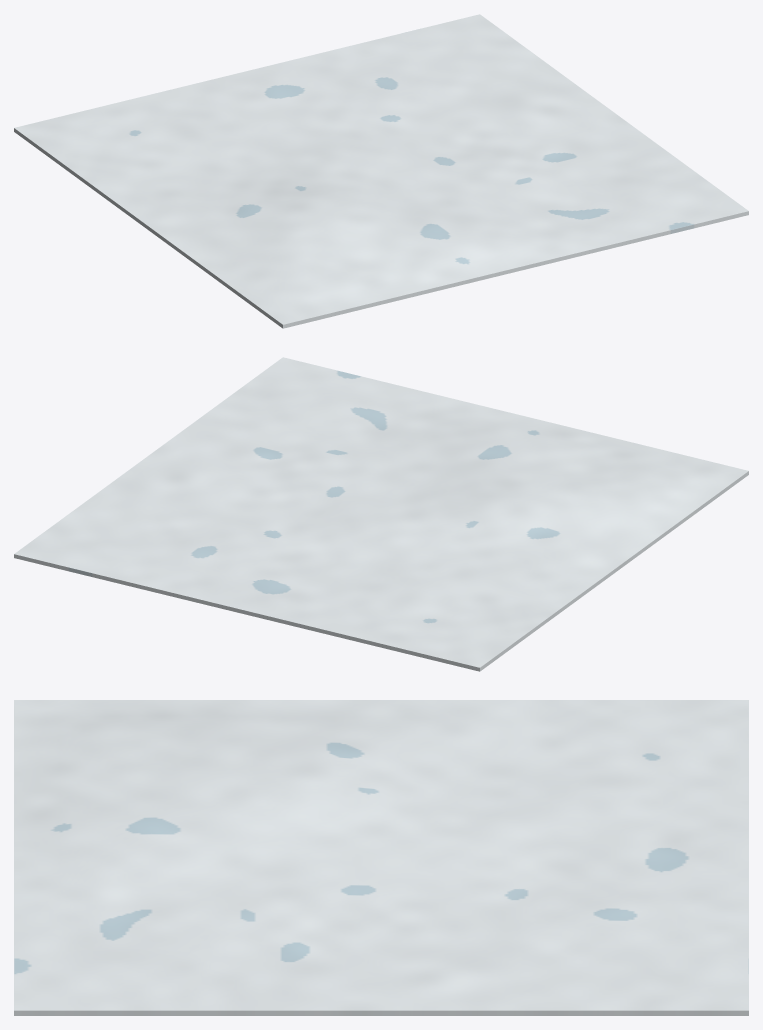
The model's file is Snow_Flat_01.obj.
3 views of the same model, one above another, from view 1: azimuth 30°, elevation 25°; view 2: azimuth 150°, elevation 25°; view 3: azimuth 270°, elevation 25° (orthographic). The views are drawn at different scales.
Bounding box in the file's own units: 10 × 0.2707 × 10.
Materials: 1 (1 with a texture image).
